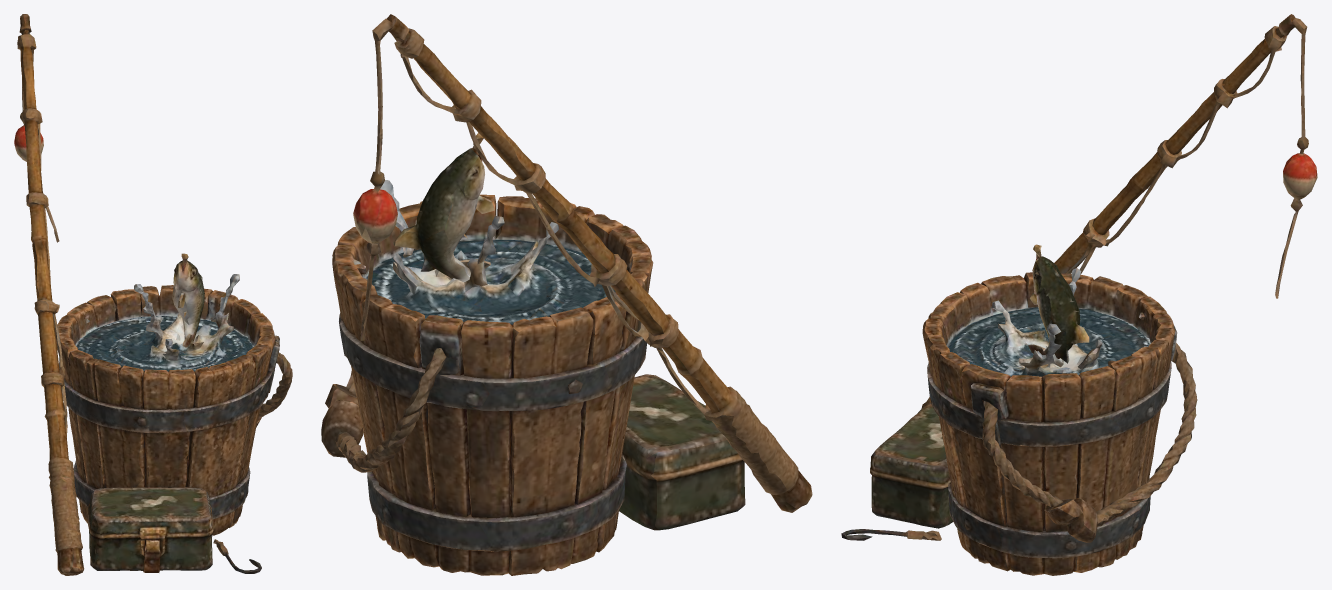
The model's file is fishing_gear_lite.glb.
3 views of the same model, side by side, from view 1: azimuth 30°, elevation 25°; view 2: azimuth 150°, elevation 25°; view 3: azimuth 270°, elevation 25° (orthographic). The views are drawn at different scales.
Visible parts, largest first — view 1: geometry_0; view 2: geometry_0; view 3: geometry_0.
Boxes of the visible parts, box(x1,y1,x2,y2) form: geometry_0: box(14, 14, 292, 575); geometry_0: box(321, 14, 812, 575); geometry_0: box(841, 14, 1317, 575).
Size of the model in its own units: 1.21 by 1.9 by 1.63.
Materials: 1 (1 with a texture image).
